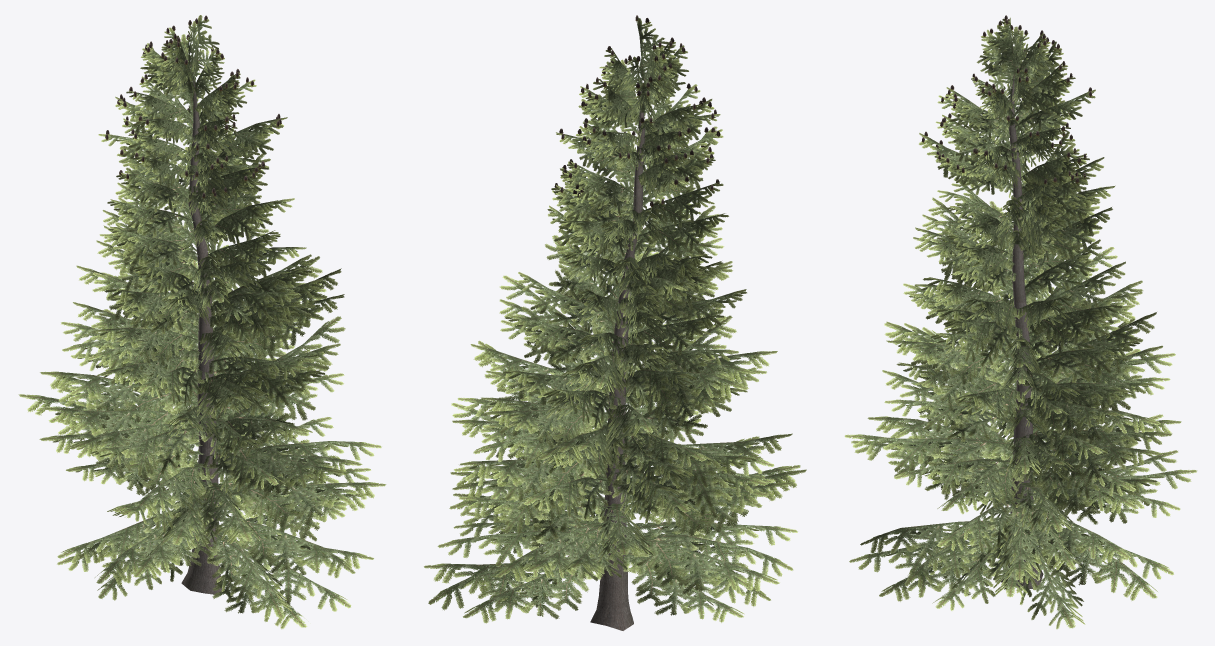
Rendered from Abies_Balsamea_Autumn_Adult.glb.
3 renders of one model, left to right at view 1: azimuth 30°, elevation 25°; view 2: azimuth 150°, elevation 25°; view 3: azimuth 270°, elevation 25°, orthographic. The views are drawn at different scales.
Parts seen in each view (by area): view 1: Abies_Balsamea_Autumn_Adult__LOD3; view 2: Abies_Balsamea_Autumn_Adult__LOD3; view 3: Abies_Balsamea_Autumn_Adult__LOD3.
Part boxes in pixels (x1,y1,x2,y2): Abies_Balsamea_Autumn_Adult__LOD3: (18, 15, 386, 629); Abies_Balsamea_Autumn_Adult__LOD3: (424, 15, 806, 630); Abies_Balsamea_Autumn_Adult__LOD3: (844, 15, 1197, 629).
Size of the model in its own units: 7.97 by 13.57 by 7.96.
Materials: 3 (3 with a texture image).
